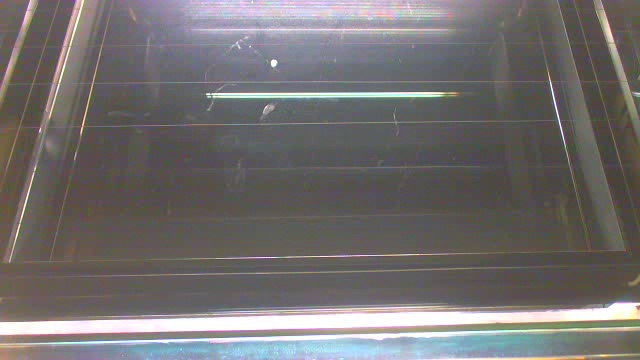Alfa: (258, 101, 277, 122), (269, 57, 279, 69)
